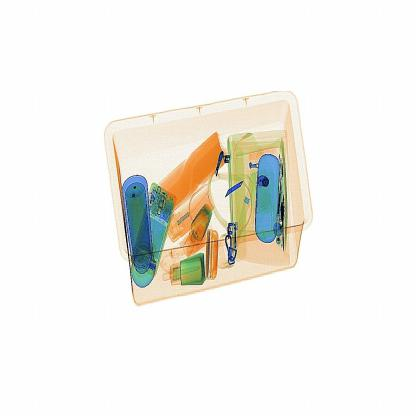pliers: (219, 174, 251, 201)
